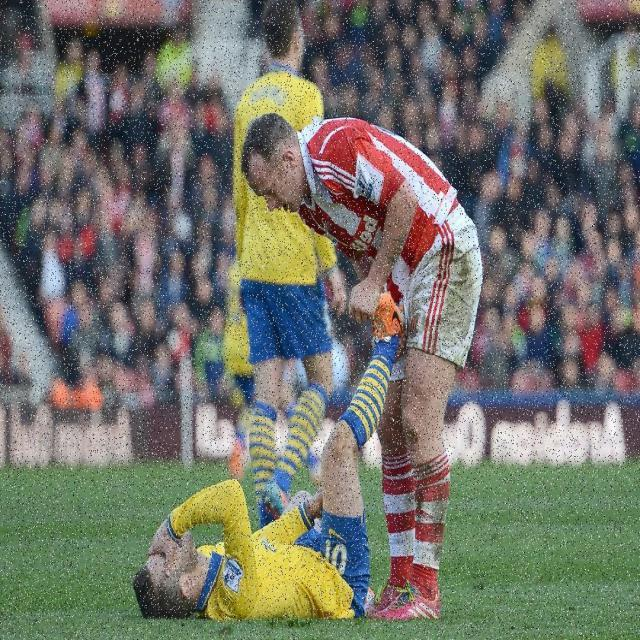fall: (130, 312, 398, 612)
